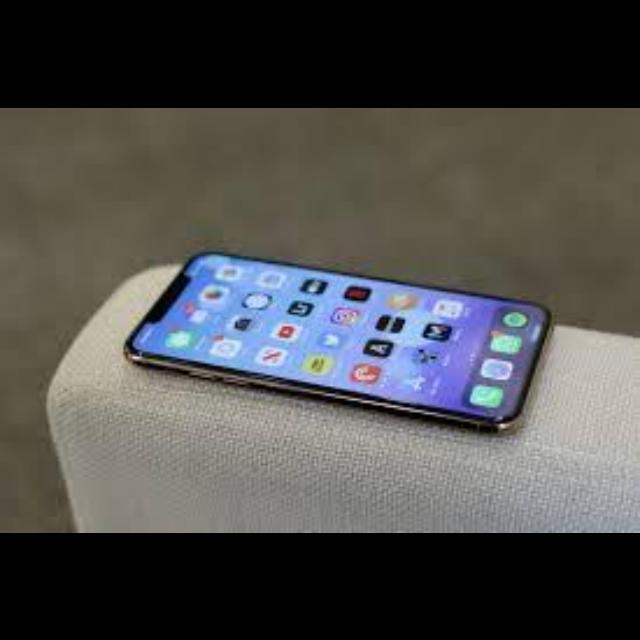Phone: (125, 249, 555, 438)
